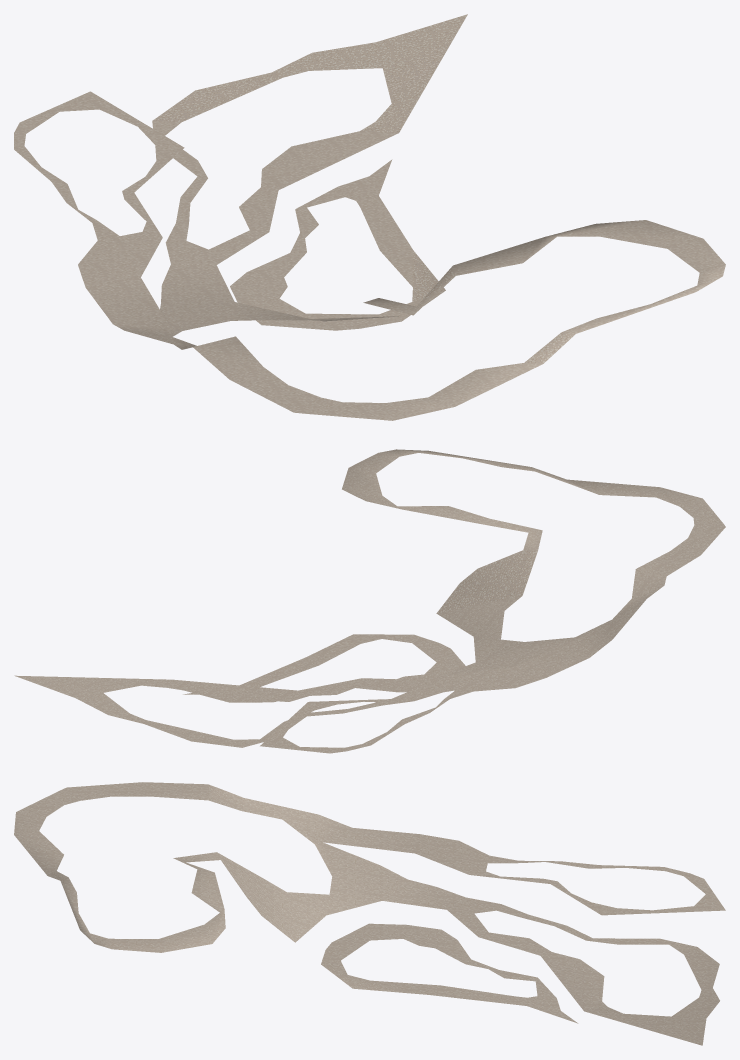
Rendered from kd_stage_13612f_2_4.glb.
The picture shows the model from 3 angles, top to bottom: view 1: azimuth 30°, elevation 25°; view 2: azimuth 150°, elevation 25°; view 3: azimuth 270°, elevation 25°; orthographic projection. The views are drawn at different scales.
Visible parts, largest first — view 1: kd_stage_13612f_2_4; view 2: kd_stage_13612f_2_4; view 3: kd_stage_13612f_2_4.
Part boxes in pixels (<box>): kd_stage_13612f_2_4: <box>14,14,725,420</box>; kd_stage_13612f_2_4: <box>14,449,725,753</box>; kd_stage_13612f_2_4: <box>14,782,725,1045</box>.
Bounding box in the file's own units: 59.73 × 10.5 × 79.65.
1 material, 1 textured.
